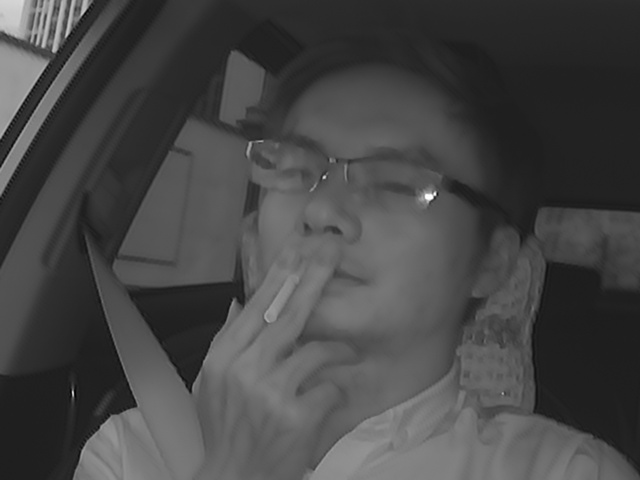hand: (193, 241, 362, 460)
